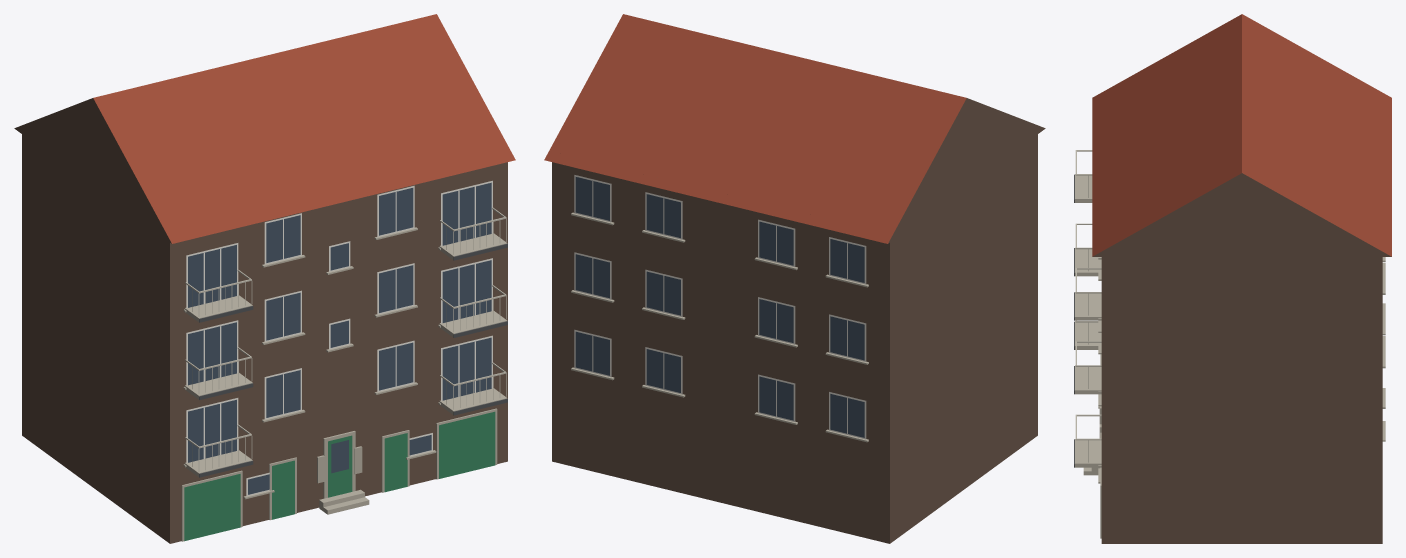
File: nw-portiek-hof-garage-4st__brown-green__4__gable__long__solid.glb
The picture shows the model from 3 angles, left to right: view 1: azimuth 30°, elevation 25°; view 2: azimuth 150°, elevation 25°; view 3: azimuth 270°, elevation 25°; orthographic projection. The views are drawn at different scales.
Visible parts, largest first — view 1: nw-portiek-hof-garage-4st__brown-green__4__gable__long__soli; view 2: nw-portiek-hof-garage-4st__brown-green__4__gable__long__soli; view 3: nw-portiek-hof-garage-4st__brown-green__4__gable__long__soli.
Boxes of the visible parts, x1,y1,x2,y2 form: nw-portiek-hof-garage-4st__brown-green__4__gable__long__soli: (14,14,515,543); nw-portiek-hof-garage-4st__brown-green__4__gable__long__soli: (544,14,1045,543); nw-portiek-hof-garage-4st__brown-green__4__gable__long__soli: (1074,14,1391,543).
Size of the model in its own units: 14.03 by 15.32 by 11.85.
